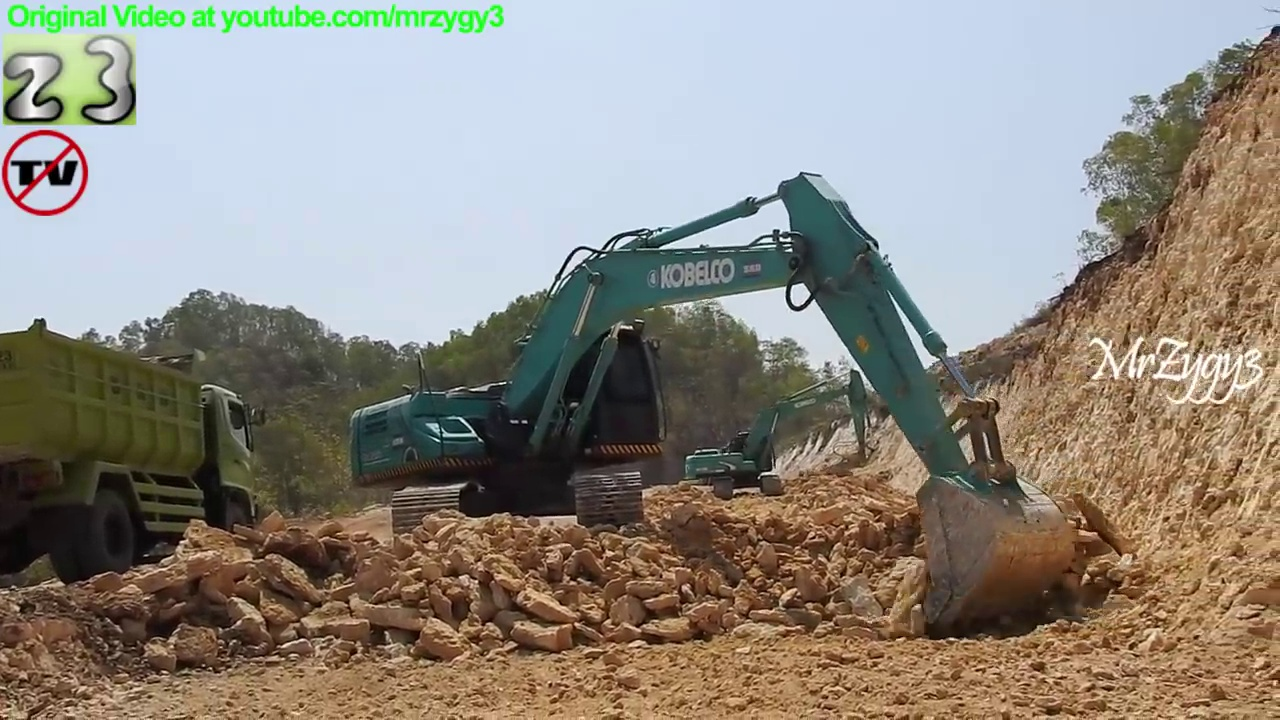excavator: (344, 165, 1082, 647)
excavator breaker: (682, 364, 874, 503)
truck: (1, 312, 272, 595)
